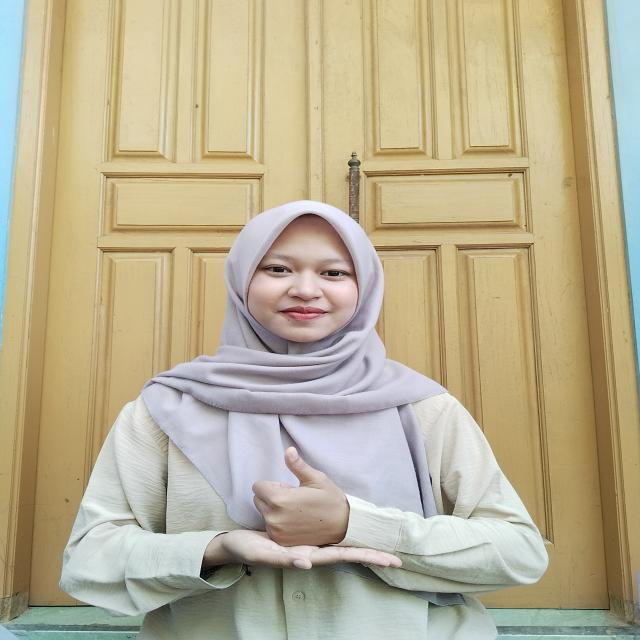cantik: (199, 446, 404, 580)
